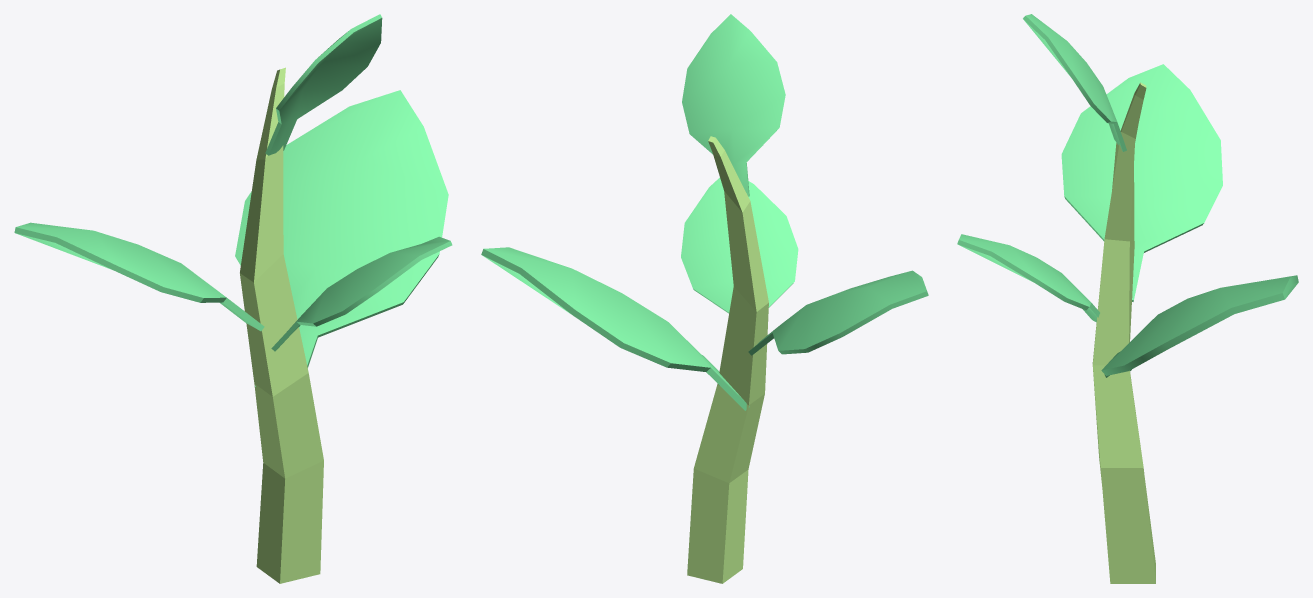
The model's file is Plant.fbx.
The picture shows the model from 3 angles, left to right: view 1: azimuth 30°, elevation 25°; view 2: azimuth 150°, elevation 25°; view 3: azimuth 270°, elevation 25°; orthographic projection. The views are drawn at different scales.
Visible parts, largest first — view 1: plant; view 2: plant; view 3: plant.
Part boxes in pixels (bbox=[...]): plant: bbox=[14, 14, 452, 583]; plant: bbox=[481, 14, 928, 583]; plant: bbox=[957, 14, 1298, 583].
Bounding box in the file's own units: 21.35 × 26.74 × 14.37.
